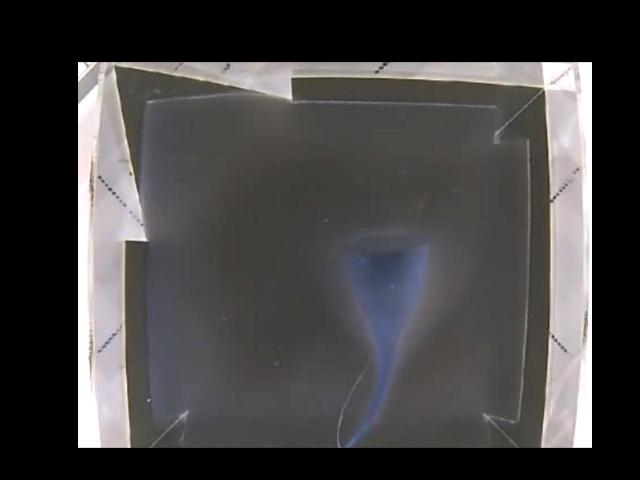Mooli: (337, 229, 428, 351)
